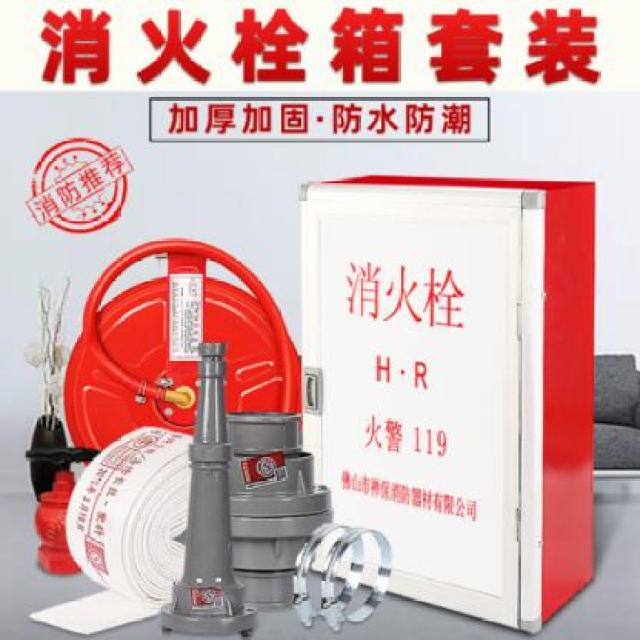firehydrant: (297, 166, 601, 639)
